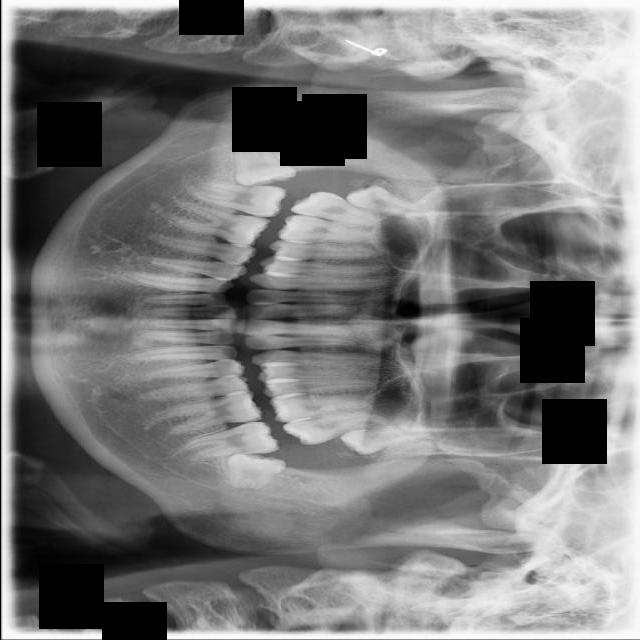3M ESPE Implant: (342, 178, 431, 224)
73: (63, 600, 73, 612)
BioHorizons Implant: (281, 402, 393, 450)
BioLife Implant: (338, 425, 432, 457)
Biomet 3i Implant: (223, 451, 286, 495)
Blue Sky Bio Implant: (175, 419, 279, 462)
Caries: (287, 185, 403, 234)
Implant: (188, 180, 287, 219)
Keystone Dental Implant: (229, 140, 298, 190)
